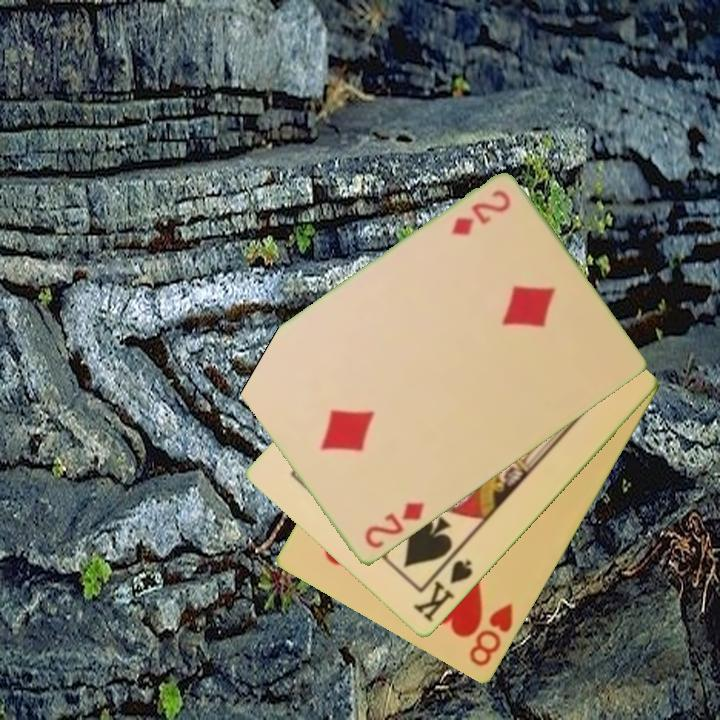2d: (447, 186, 514, 240), (361, 499, 427, 552)
8h: (465, 600, 516, 670)
Ks: (409, 548, 476, 626)
